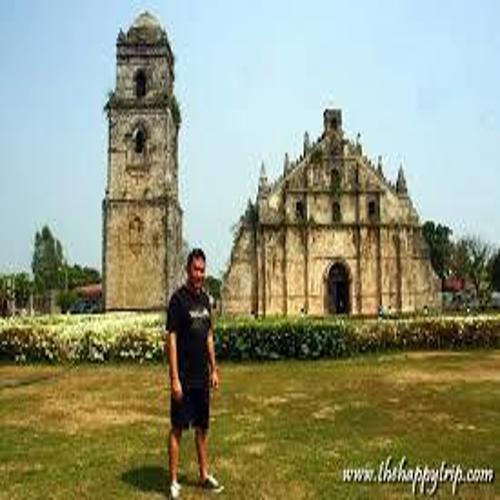Paoay Church: (98, 6, 454, 325)
